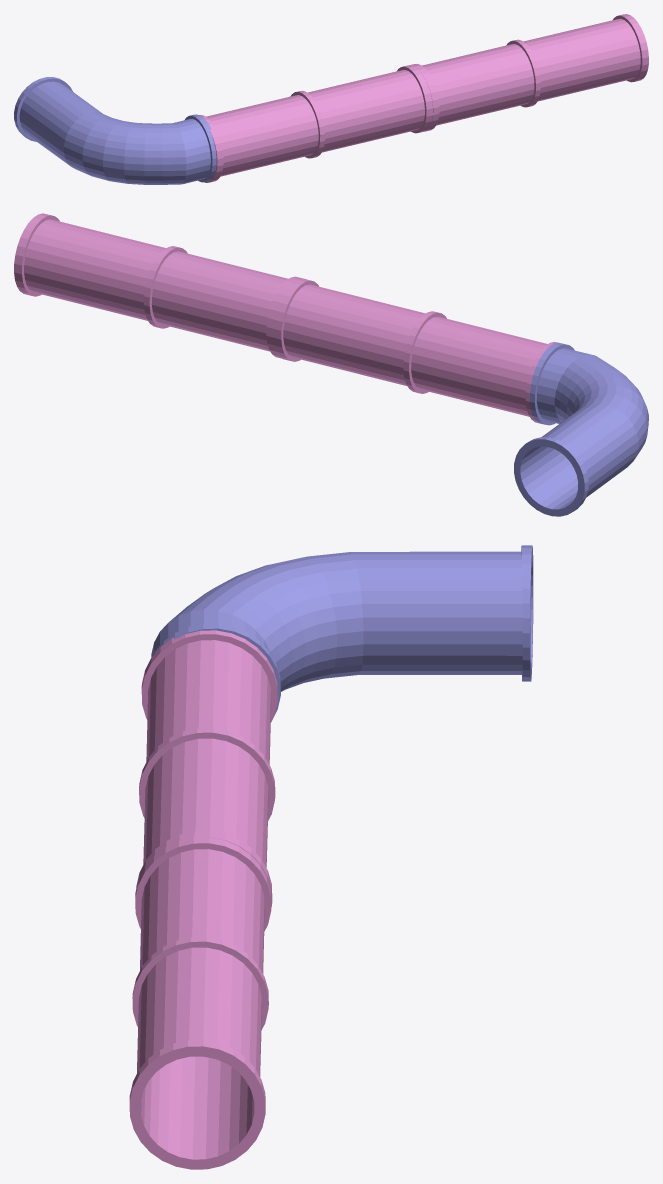
Rendered from tunnel.fbx.
The picture shows the model from 3 angles, top to bottom: view 1: azimuth 30°, elevation 25°; view 2: azimuth 150°, elevation 25°; view 3: azimuth 270°, elevation 25°; orthographic projection. The views are drawn at different scales.
Visible parts, largest first — view 1: Line001.001, Line003.001; view 2: Line001.001, Line003.001; view 3: Line001.001, Line003.001.
Boxes of the visible parts, x1=… form: Line001.001: x1=199, y1=14, x2=648, y2=182; Line003.001: x1=14, y1=77, x2=216, y2=184; Line001.001: x1=14, y1=213, x2=557, y2=424; Line003.001: x1=514, y1=342, x2=648, y2=516; Line001.001: x1=129, y1=630, x2=277, y2=1169; Line003.001: x1=151, y1=545, x2=533, y2=721.
Bounding box in the file's own units: 3934 × 439 × 1286.
